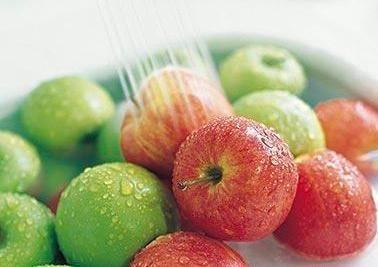apple: (171, 113, 298, 241), (117, 67, 234, 176), (55, 161, 177, 264), (276, 155, 376, 254)
